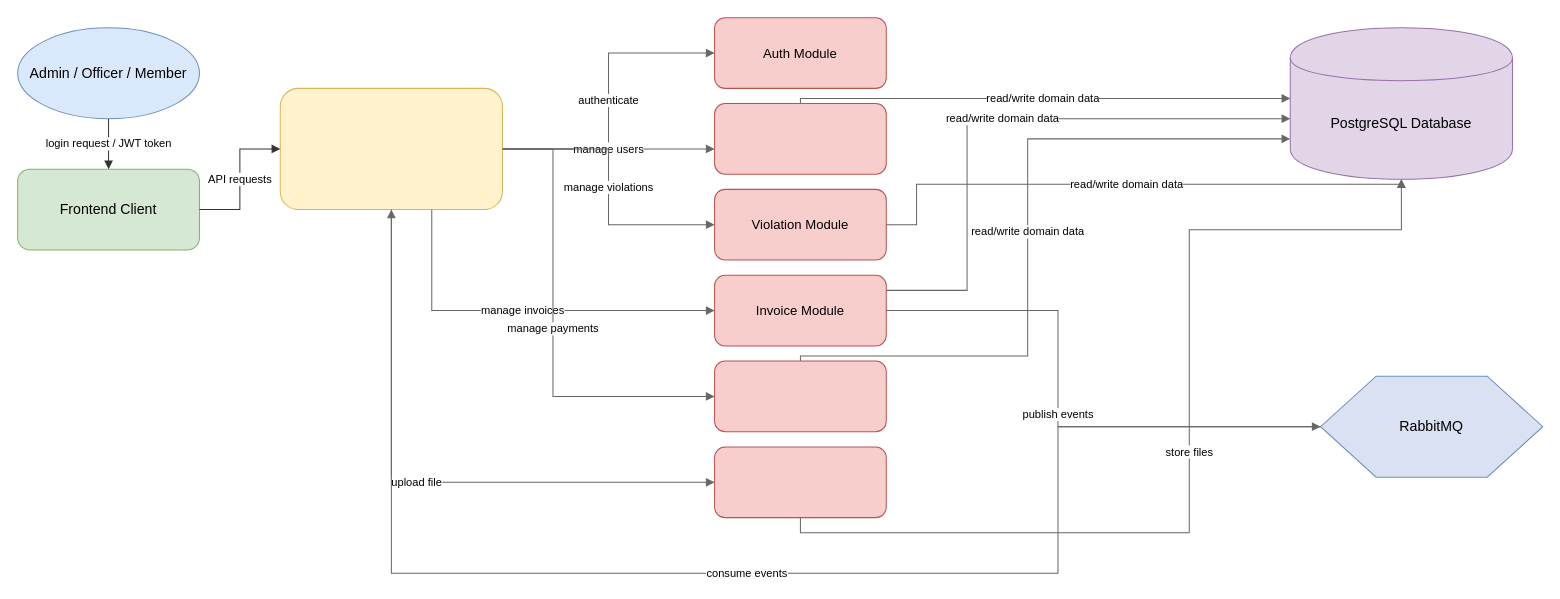
Some shapes in this 1560 by 599 pixel diagram are drawn without their labels. Each missing label, with the box of its shape:
Backend API: (279, 87, 502, 210)
Payment Module: (714, 360, 886, 432)
Upload Module: (714, 446, 886, 518)
User Module: (714, 103, 886, 174)
